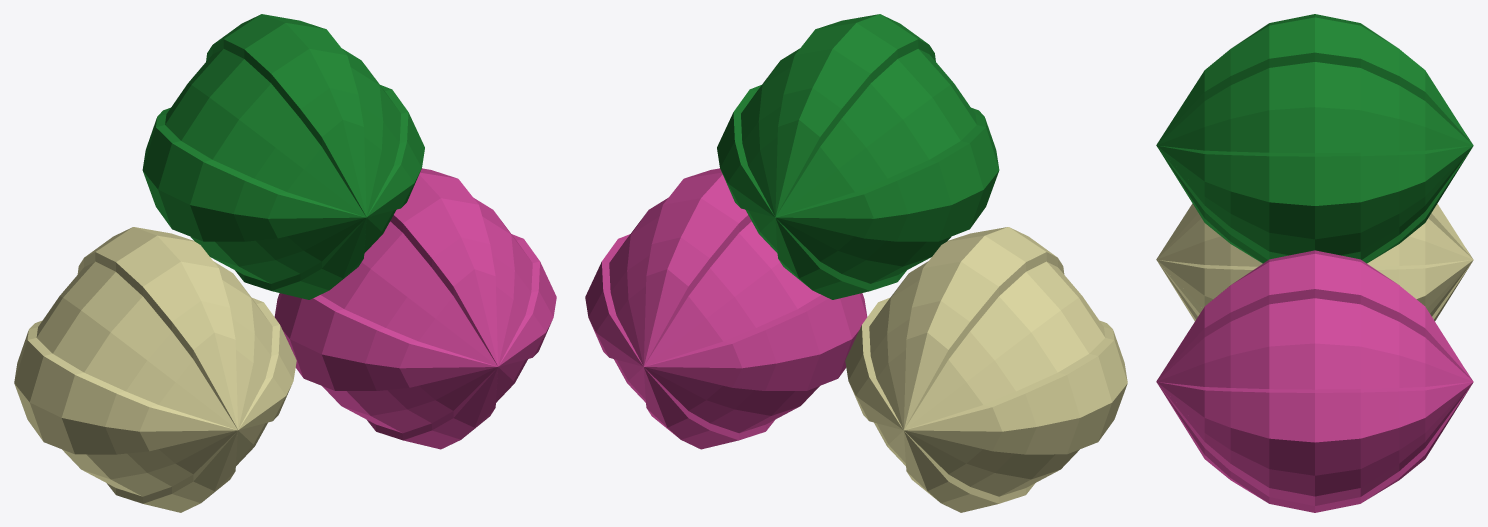
File: rice cake_01.fbx
3 renders of one model, left to right at view 1: azimuth 30°, elevation 25°; view 2: azimuth 150°, elevation 25°; view 3: azimuth 270°, elevation 25°, orthographic. The views are drawn at different scales.
Visible parts, largest first — view 1: Sphere002, Sphere001, Sphere003; view 2: Sphere002, Sphere001, Sphere003; view 3: Sphere003, Sphere001, Sphere002.
Part boxes in pixels (x1,y1,x2,y2): Sphere002: (14,227,296,512); Sphere001: (142,14,424,299); Sphere003: (274,168,556,449); Sphere002: (845,227,1127,512); Sphere001: (717,14,999,299); Sphere003: (585,168,867,449); Sphere003: (1156,250,1473,512); Sphere001: (1156,14,1473,263); Sphere002: (1156,203,1473,320).
Bounding box in the file's own units: 140 × 118 × 78.24.
